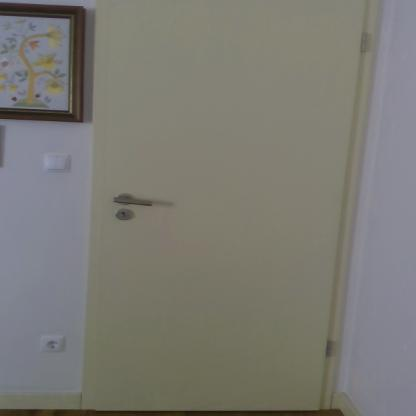door: (93, 0, 333, 415)
hinged: (322, 337, 336, 360), (360, 30, 372, 55)
lever: (115, 194, 158, 210)
